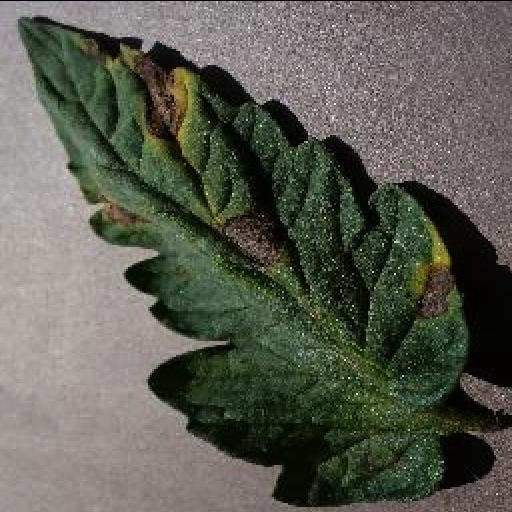disease_tomato: (10, 12, 474, 508)
